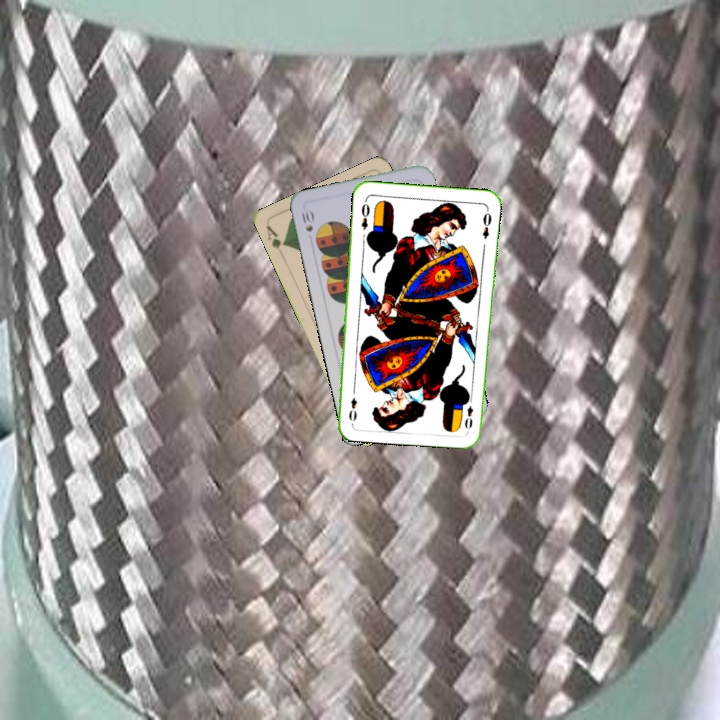EO: (460, 392, 476, 431), (357, 196, 372, 232)
GA: (262, 222, 289, 260)
S10: (297, 205, 316, 234)
